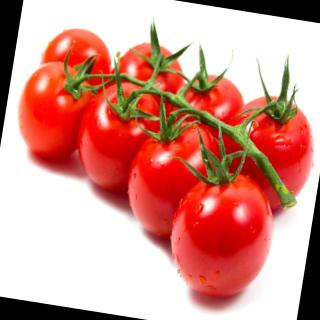Tomat: (118, 88, 233, 248), (162, 164, 286, 309), (217, 47, 320, 217), (71, 49, 173, 200), (11, 36, 113, 168)
